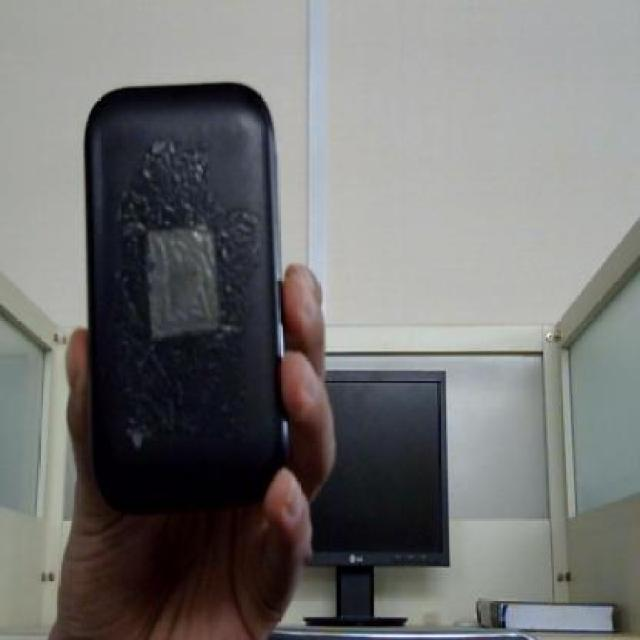Plastic: (82, 74, 294, 523)
